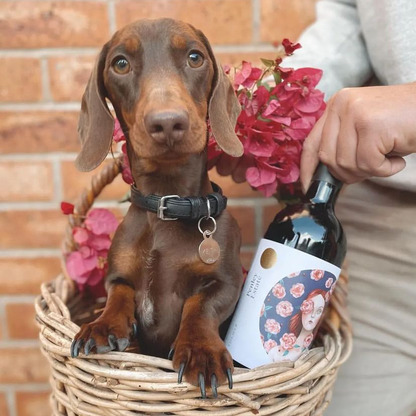dachshund: (60, 18, 267, 366)
